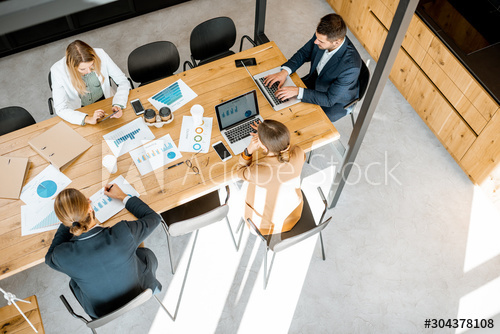person: (42, 180, 166, 321), (263, 11, 362, 124), (233, 118, 306, 237), (48, 36, 130, 126)
